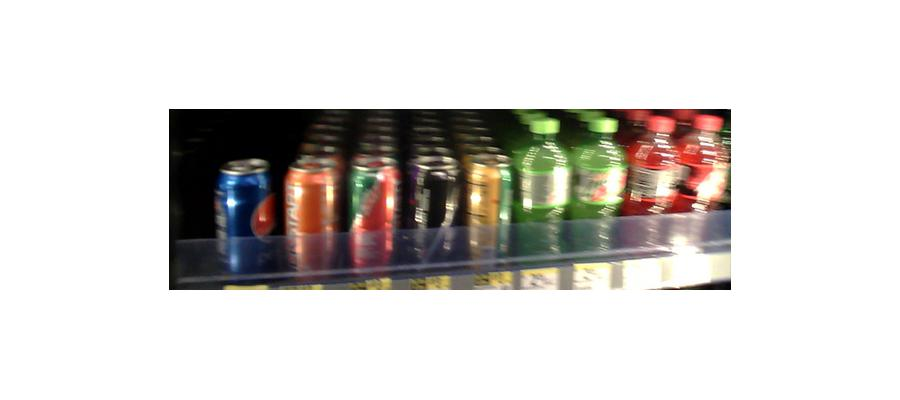bottle: (282, 143, 345, 275), (513, 112, 567, 262), (212, 154, 275, 275), (569, 112, 620, 256), (626, 115, 677, 251), (348, 148, 399, 270), (409, 151, 459, 270), (462, 149, 511, 269)
